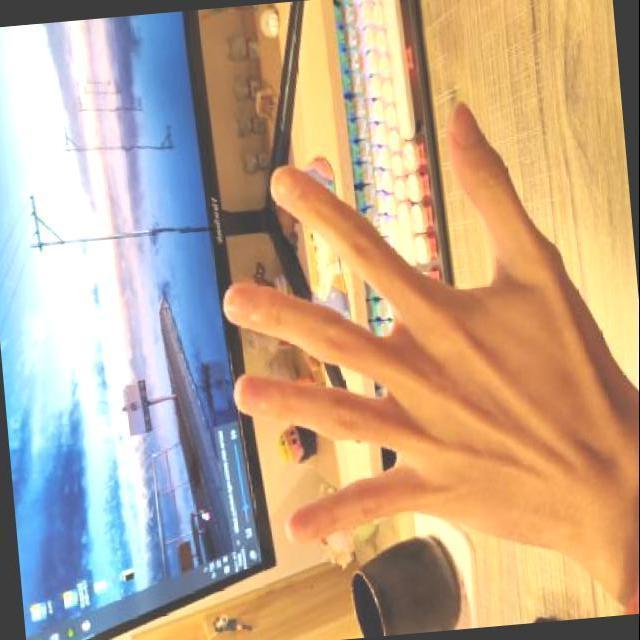hand: (192, 75, 640, 626)
